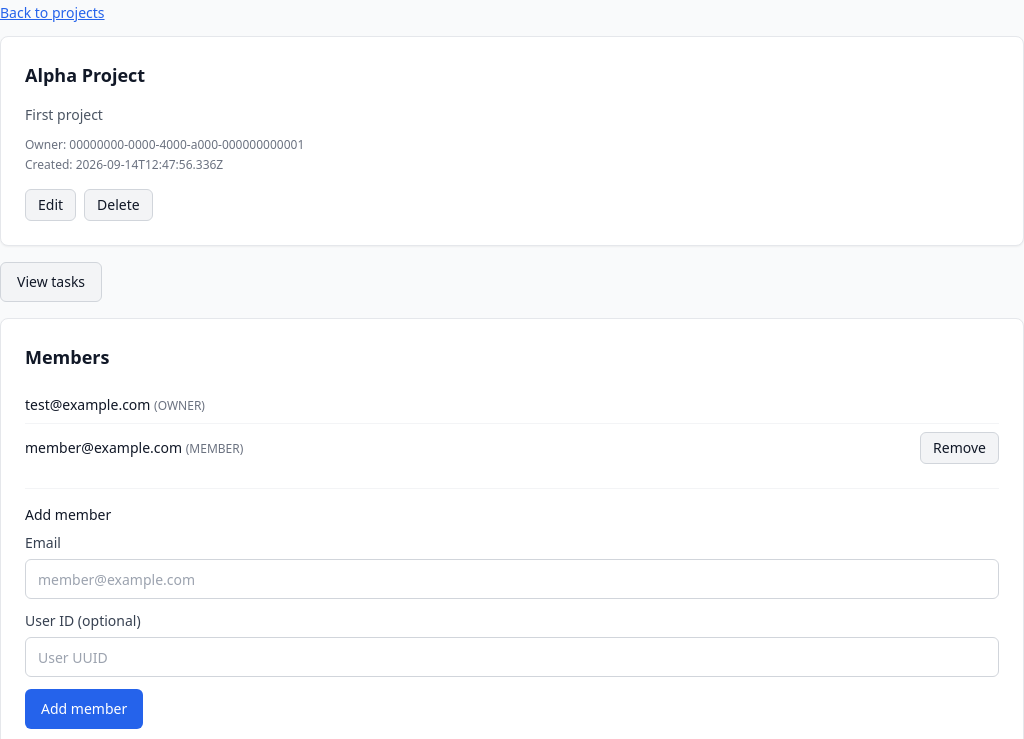
Scenario: Members section on project details (behavior) › owner adds a member by email and the list refreshes (behavior)
Expected: the text "member@example.com" is shown, [25, 438, 182, 457]
Type "new@example.com" into the field labelled "Email" at (512, 579), box [25, 559, 999, 599]
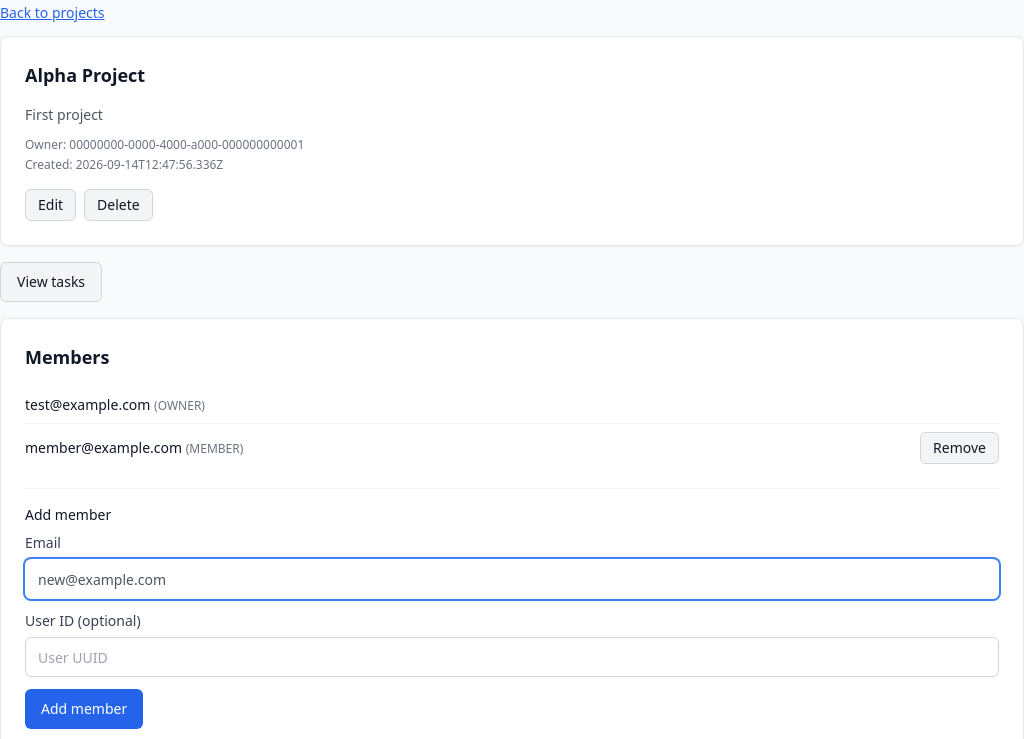
Click the button "Add member" at (84, 709), box [25, 689, 143, 729]
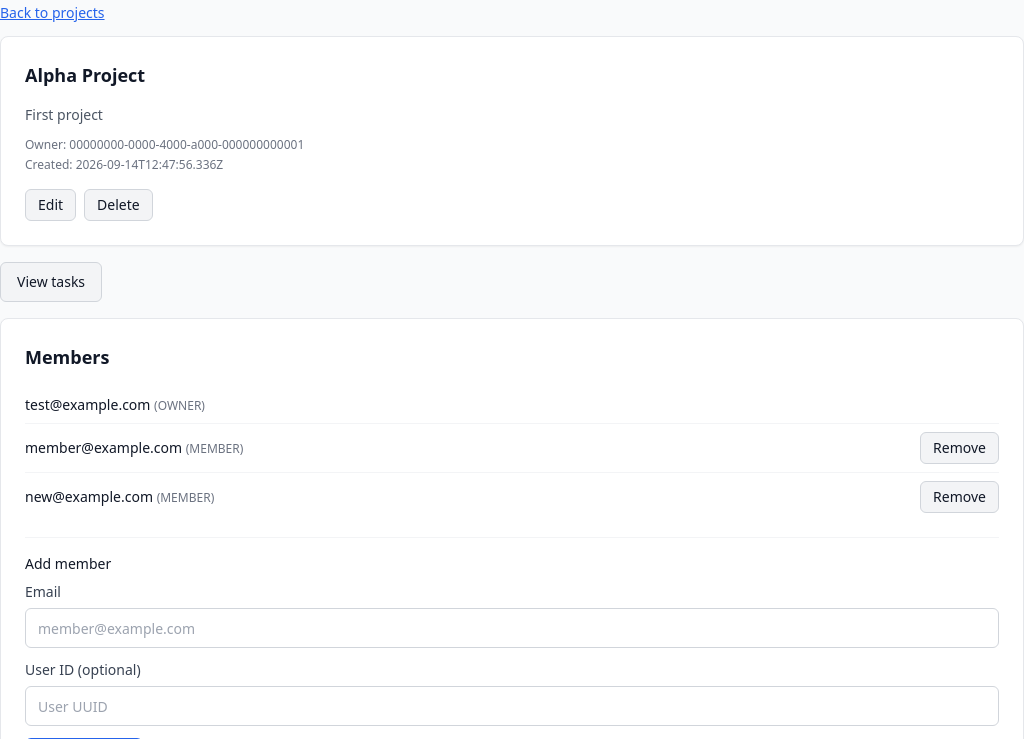
Expected: the text "new@example.com" is shown, [25, 487, 153, 506]
